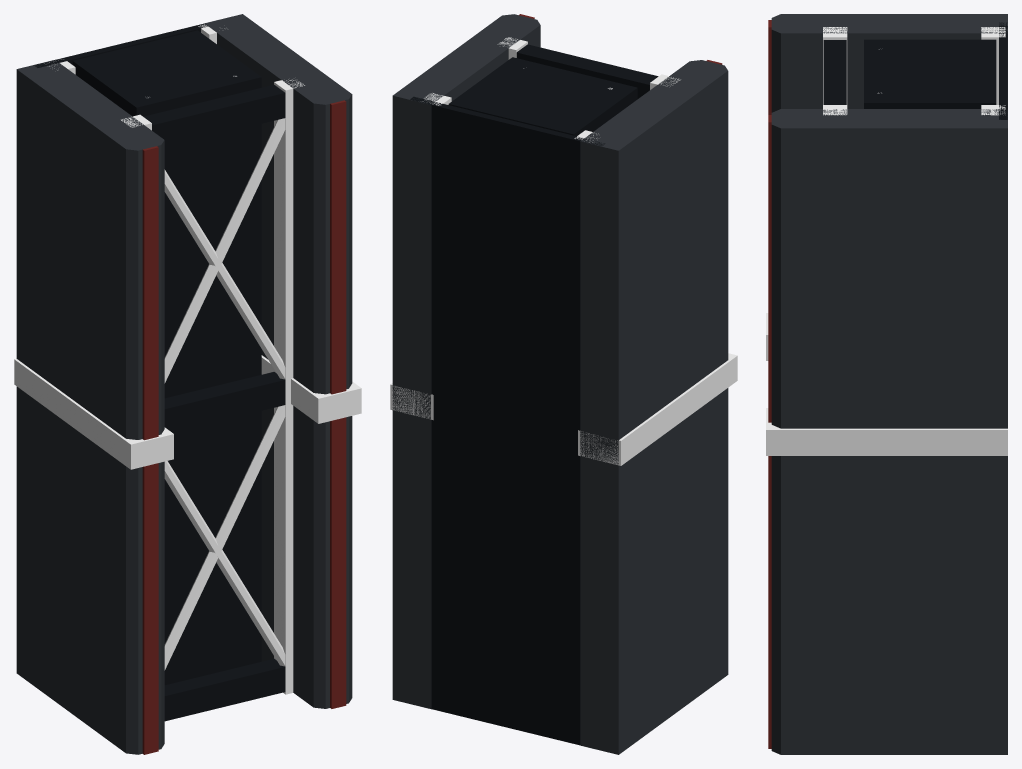
The model's file is flagship_lift.gltf.
The picture shows the model from 3 angles, left to right: view 1: azimuth 30°, elevation 25°; view 2: azimuth 150°, elevation 25°; view 3: azimuth 270°, elevation 25°; orthographic projection. The views are drawn at different scales.
Visible parts, largest first — view 1: panel, dark, deepred, steel, titanium; view 2: panel, dark, steel; view 3: panel, dark, steel, deepred.
Part boxes in pixels (box(x1,y1,x2,y2)): panel: box(16, 14, 352, 754); dark: box(34, 23, 285, 721); deepred: box(142, 100, 346, 754); steel: box(14, 24, 361, 694); titanium: box(164, 118, 285, 670); panel: box(392, 14, 728, 754); dark: box(410, 44, 658, 745); steel: box(390, 37, 737, 465); panel: box(771, 14, 1007, 754); dark: box(823, 22, 1007, 119); steel: box(766, 27, 1007, 455); deepred: box(768, 20, 771, 748).
Size of the model in its own units: 4.8 by 12 by 4.2.
